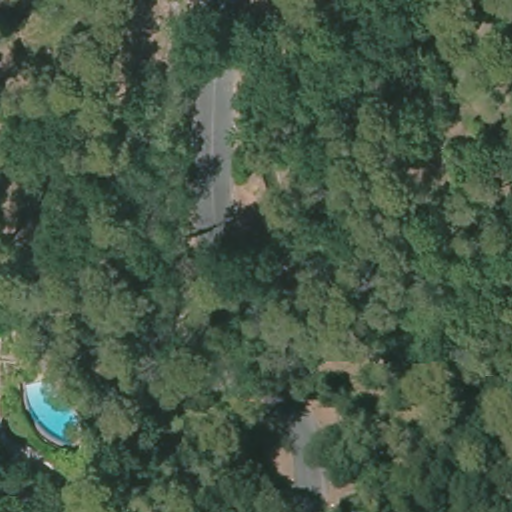pool: (21, 376, 87, 447)
